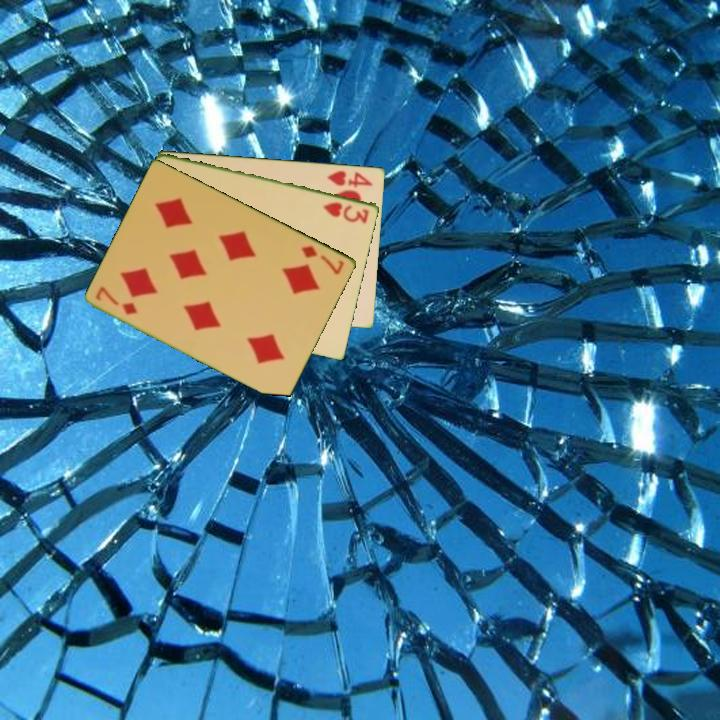3h: (320, 198, 372, 226)
4h: (324, 167, 375, 190)
7d: (298, 242, 348, 278), (92, 283, 141, 318)
